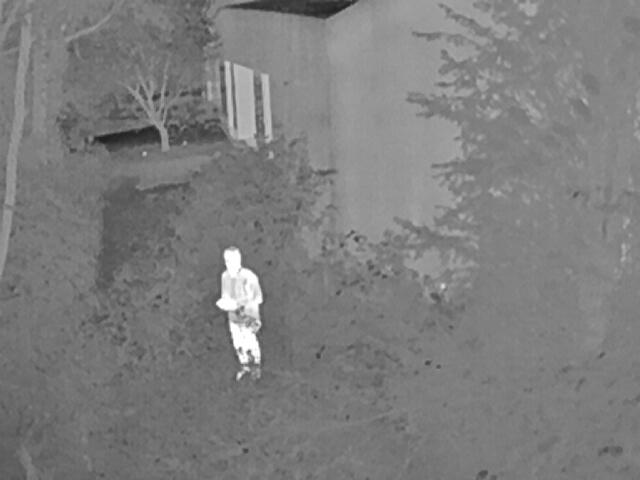person: (216, 247, 263, 383)
